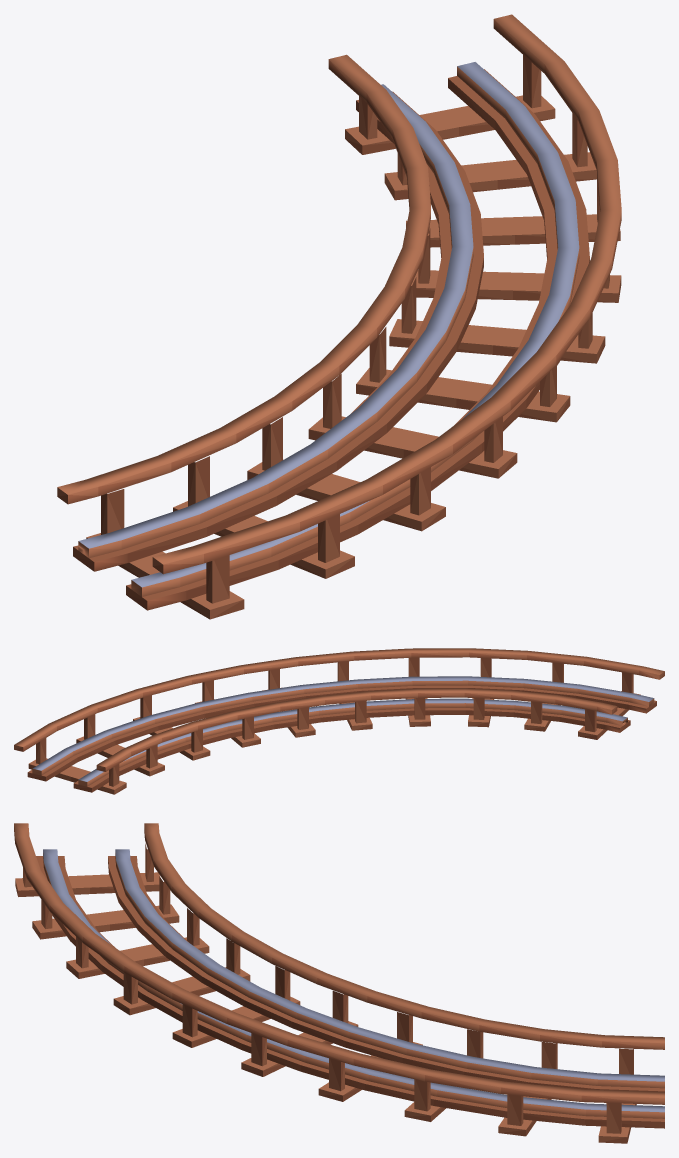
The model's file is coaster_coaster_wood_corner_large.glb.
3 renders of one model, top to bottom at view 1: azimuth 30°, elevation 25°; view 2: azimuth 150°, elevation 25°; view 3: azimuth 270°, elevation 25°, orthographic. The views are drawn at different scales.
Visible parts, largest first — view 1: coaster_coaster_wood_corner_large; view 2: coaster_coaster_wood_corner_large; view 3: coaster_coaster_wood_corner_large.
Part boxes in pixels (box(x1,y1,x2,y2)): coaster_coaster_wood_corner_large: box(57, 14, 621, 619); coaster_coaster_wood_corner_large: box(14, 648, 664, 794); coaster_coaster_wood_corner_large: box(14, 823, 664, 1143).
Size of the model in its own units: 4.5 by 0.35 by 4.5.
